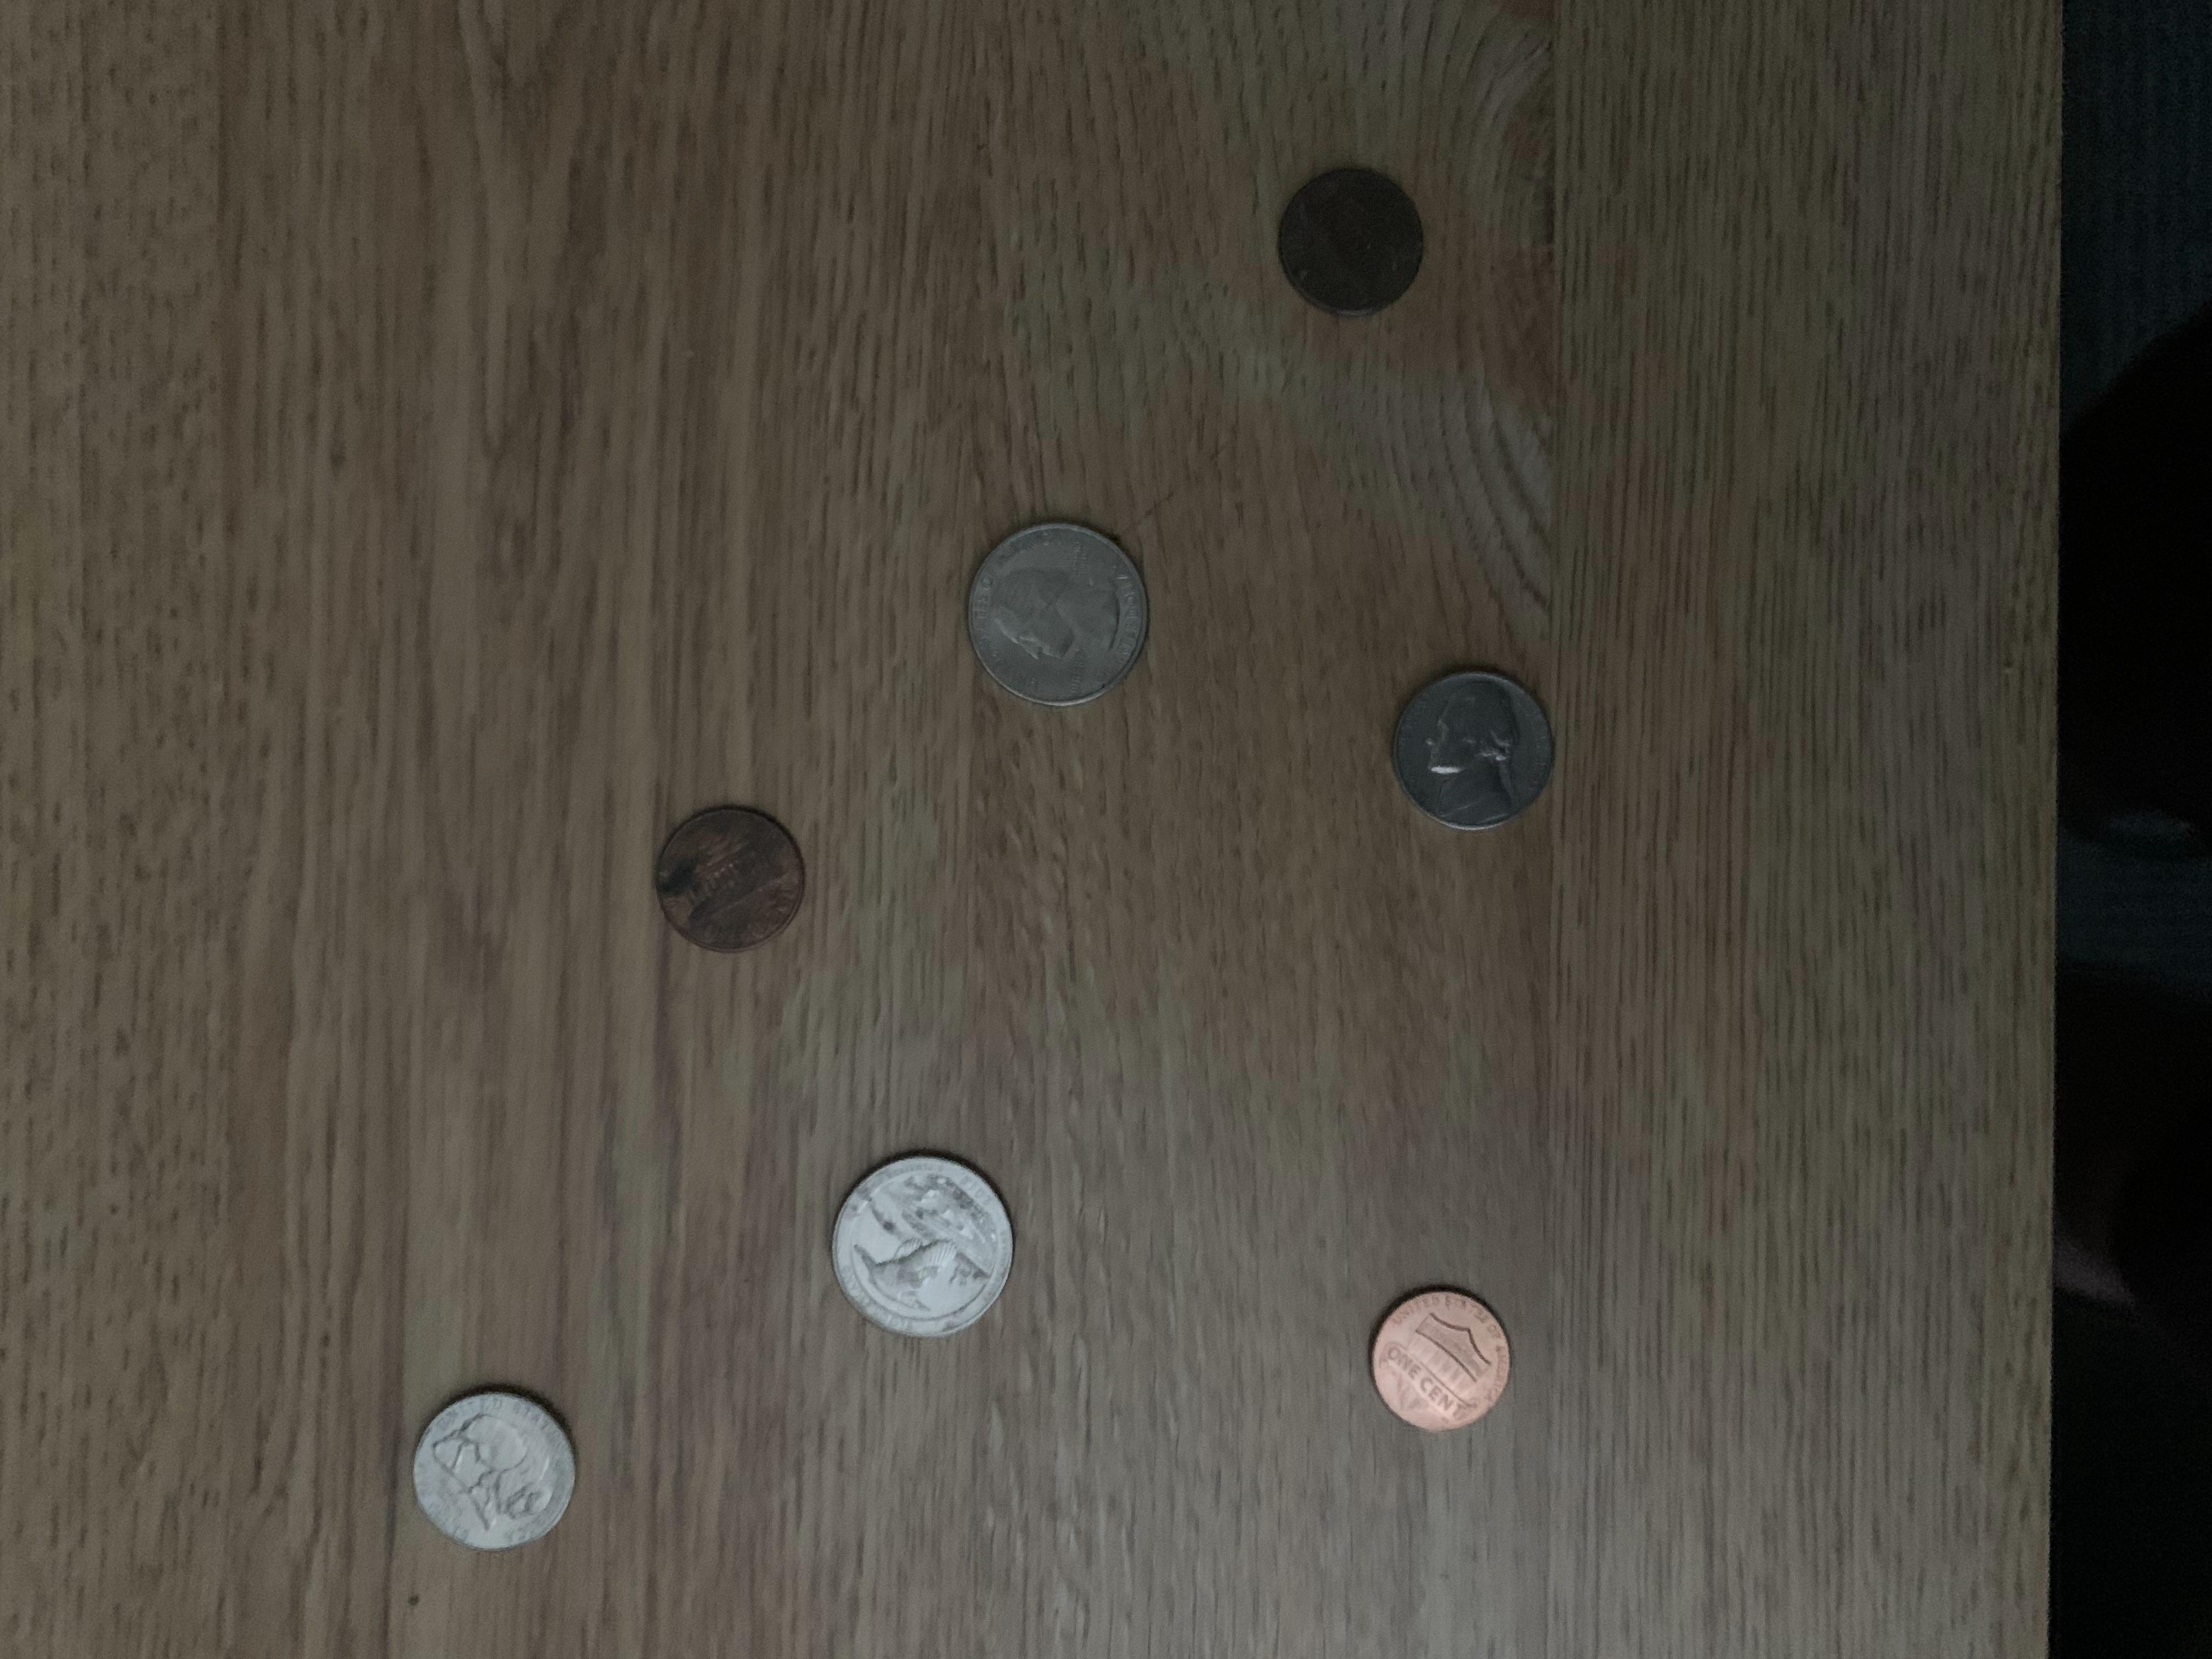Nickel: (408, 1382, 580, 1561), (1381, 666, 1562, 836)
Penny: (1270, 164, 1428, 324), (651, 803, 810, 958), (1362, 1288, 1515, 1438)
Quarter: (956, 518, 1155, 716), (824, 1154, 1015, 1342)
